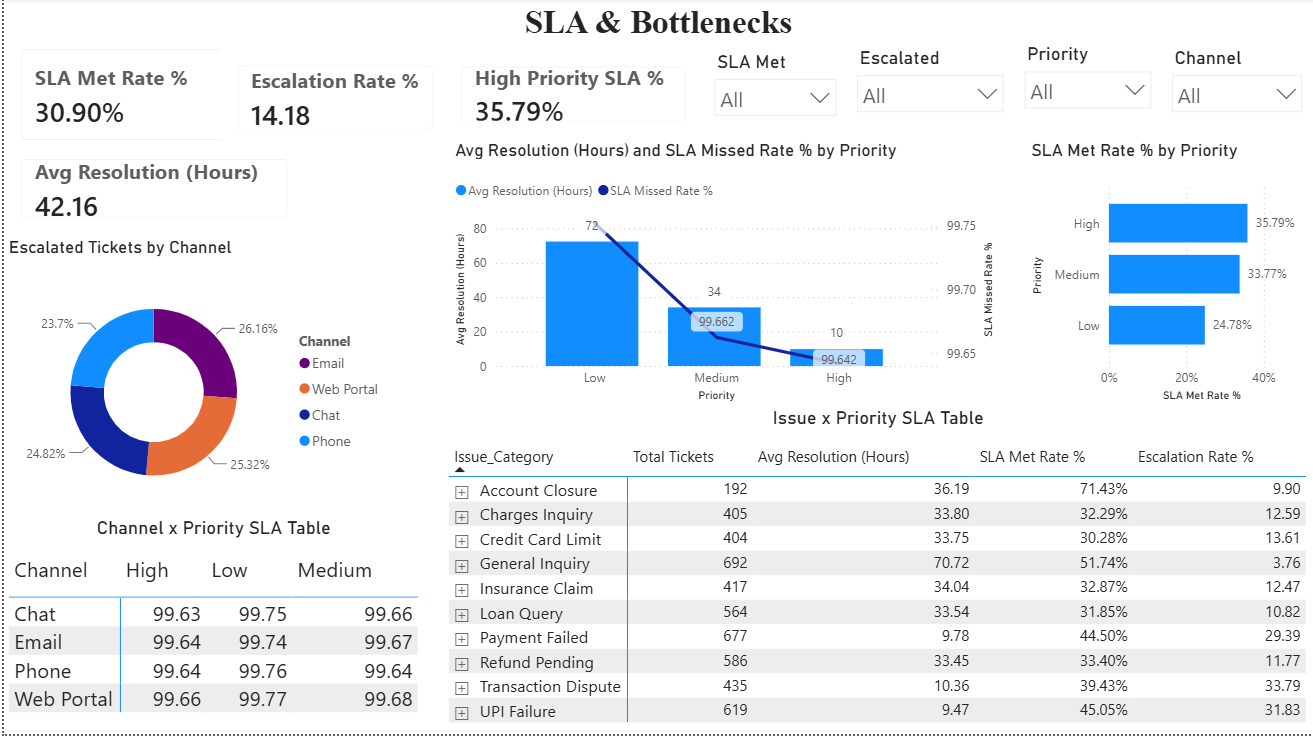

This screenshot's page, from the dashboard's own definition file:
{"tool":"powerbi","page":{"name":"SLA & Bottlenecks","canvas":[1280,720],"ordinal":3},"visuals":[{"type":"clusteredBarChart","fields":{"Category":["customer_support_tickets.Priority"],"Y":["_Measures.SLA Met Rate %"]},"box":[1000.3,138.2,280,261.7],"z":0},{"type":"donutChart","fields":{"Category":["customer_support_tickets.Channel"],"Y":["_Measures.Escalated Tickets"]},"box":[0,233.6,380.3,273.9],"z":1000},{"type":"lineClusteredColumnComboChart","fields":{"Category":["customer_support_tickets.Priority"],"Y":["_Measures.Avg Resolution (Hours)"],"Y2":["_Measures.SLA Missed Rate %"]},"box":[436.6,138.2,538,261.7],"z":2000},{"type":"pivotTable","title":"Issue x Priority SLA Table","fields":{"Rows":["customer_support_tickets.Issue_Category","customer_support_tickets.Priority"],"Values":["_Measures.Total Tickets","_Measures.Avg Resolution (Hours)","_Measures.SLA Met Rate %","_Measures.Escalation Rate %"]},"box":[430.4,399.9,849.9,320.4],"z":3000},{"type":"pivotTable","title":"Channel x Priority SLA Table","fields":{"Rows":["customer_support_tickets.Channel"],"Columns":["customer_support_tickets.Priority"],"Values":["_Measures.SLA Missed Rate %"]},"box":[0,507.5,410.9,212.8],"z":4000},{"type":"textbox","box":[0,0,1280.3,62.4],"z":5000},{"type":"slicer","fields":{"Values":["customer_support_tickets.SLA_Met"]},"box":[684.8,46.5,139.4,79.5],"z":6000},{"type":"slicer","fields":{"Values":["customer_support_tickets.Escalated"]},"box":[824.2,42.8,163.9,95.4],"z":7000},{"type":"slicer","fields":{"Values":["customer_support_tickets.Priority"]},"box":[988,39.1,144.3,99],"z":8000},{"type":"slicer","fields":{"Values":["customer_support_tickets.Channel"]},"box":[1132.3,42.8,148,95.4],"z":9000},{"type":"cardVisual","fields":{"Data":["_Measures.SLA Met Rate %"]},"box":[0,33,233.6,123.5],"z":10000},{"type":"cardVisual","fields":{"Data":["_Measures.High Priority SLA %"]},"box":[430.4,50.1,254.3,88],"z":11000},{"type":"cardVisual","fields":{"Data":["_Measures.Avg Resolution (Hours)"]},"box":[0,140.6,294.7,92.9],"z":12000},{"type":"cardVisual","fields":{"Data":["_Measures.Escalation Rate %"]},"box":[211.6,48.9,225,97.8],"z":13000}]}

Visuals, with their boxes in screenshot pixels (x1, y1, x2, y2), scaled from the page's 1280x720 canvas onto the 1313x736 screenshot:
clusteredBarChart - customer_support_tickets.Priority x _Measures.SLA Met Rate %: (x1=1026, y1=141, x2=1312, y2=409)
donutChart - customer_support_tickets.Channel x _Measures.Escalated Tickets: (x1=0, y1=239, x2=390, y2=519)
lineClusteredColumnComboChart - customer_support_tickets.Priority x _Measures.Avg Resolution (Hours): (x1=448, y1=141, x2=1000, y2=409)
"Issue x Priority SLA Table" pivotTable: (x1=441, y1=409, x2=1312, y2=735)
"Channel x Priority SLA Table" pivotTable: (x1=0, y1=519, x2=421, y2=735)
textbox: (x1=0, y1=0, x2=1312, y2=64)
slicer - customer_support_tickets.SLA_Met: (x1=702, y1=48, x2=845, y2=129)
slicer - customer_support_tickets.Escalated: (x1=845, y1=44, x2=1014, y2=141)
slicer - customer_support_tickets.Priority: (x1=1013, y1=40, x2=1161, y2=141)
slicer - customer_support_tickets.Channel: (x1=1161, y1=44, x2=1312, y2=141)
cardVisual - _Measures.SLA Met Rate %: (x1=0, y1=34, x2=240, y2=160)
cardVisual - _Measures.High Priority SLA %: (x1=441, y1=51, x2=702, y2=141)
cardVisual - _Measures.Avg Resolution (Hours): (x1=0, y1=144, x2=302, y2=239)
cardVisual - _Measures.Escalation Rate %: (x1=217, y1=50, x2=448, y2=150)
